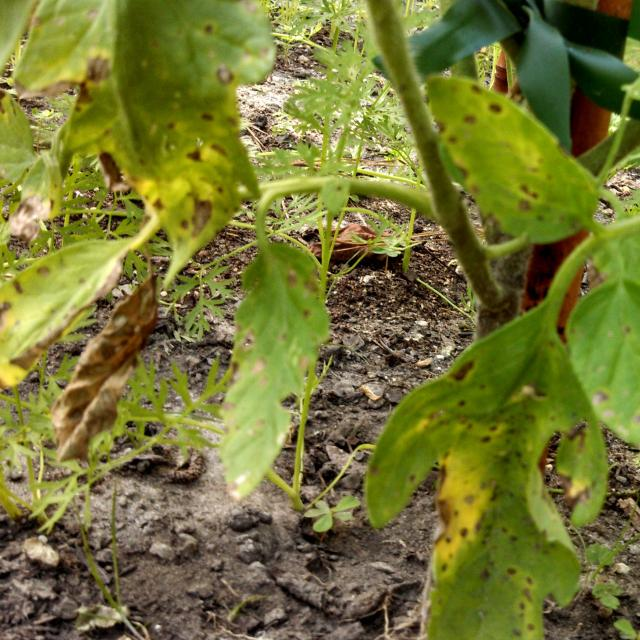Tomato Septoria leaf spot: (359, 301, 631, 640), (187, 196, 348, 539), (412, 71, 607, 257), (560, 263, 640, 477)
